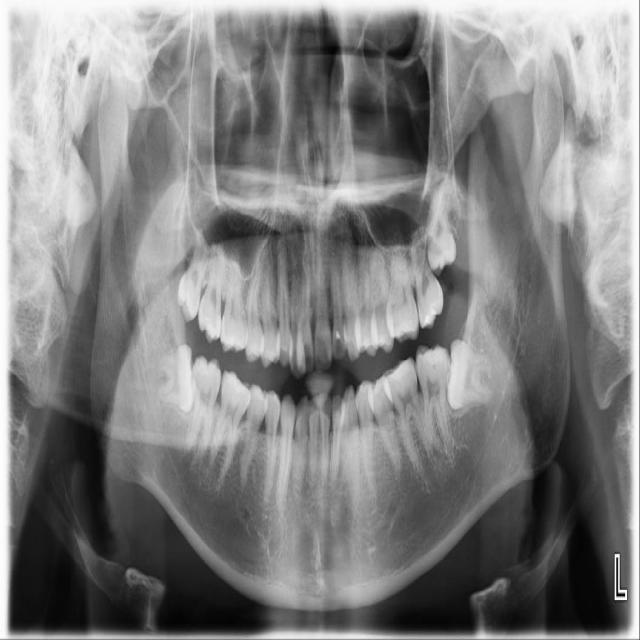impacted tooth: (449, 339, 500, 407), (150, 343, 194, 412), (427, 178, 456, 270)
